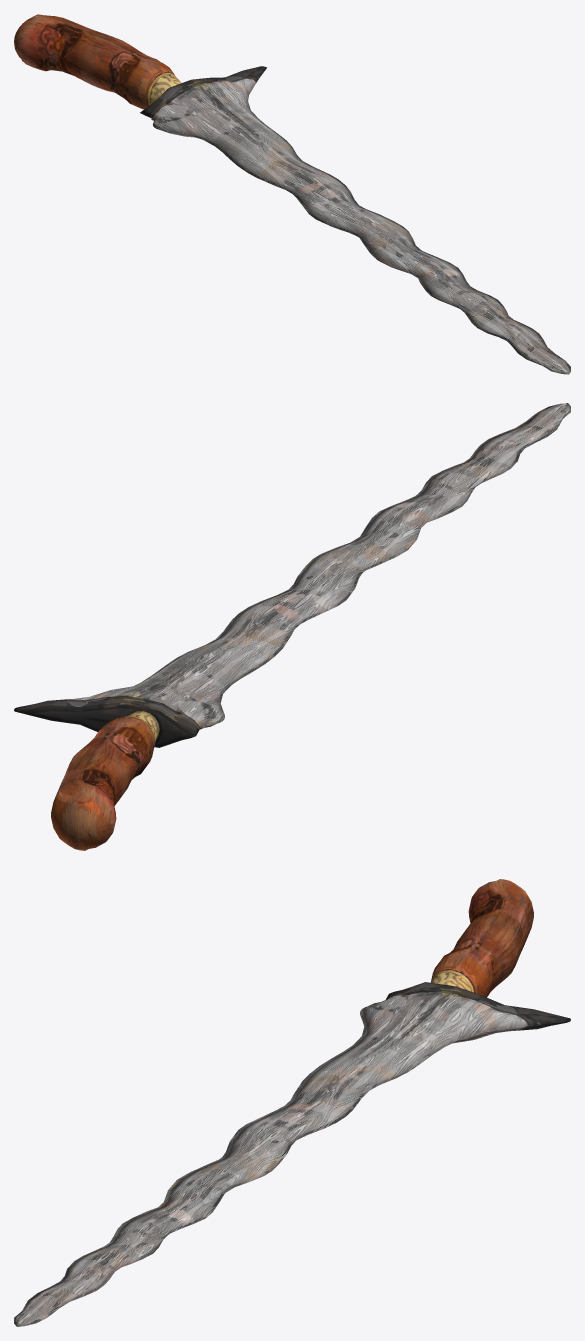
The model's file is Keris_V2.fbx.
3 views of the same model, one above another, from view 1: azimuth 30°, elevation 25°; view 2: azimuth 150°, elevation 25°; view 3: azimuth 330°, elevation 25° (orthographic). The views are drawn at different scales.
Parts seen in each view (by area): view 1: Blade_TX, Grip_TX; view 2: Blade_TX, Grip_TX; view 3: Blade_TX, Grip_TX.
Part boxes in pixels (x1,y1,x2,y2): Blade_TX: (140, 66, 570, 374); Grip_TX: (14, 14, 181, 109); Blade_TX: (14, 403, 570, 747); Grip_TX: (51, 711, 159, 850); Blade_TX: (14, 982, 570, 1326); Grip_TX: (431, 879, 533, 997).
Bounding box in the file's own units: 22.16 × 6.32 × 112.
